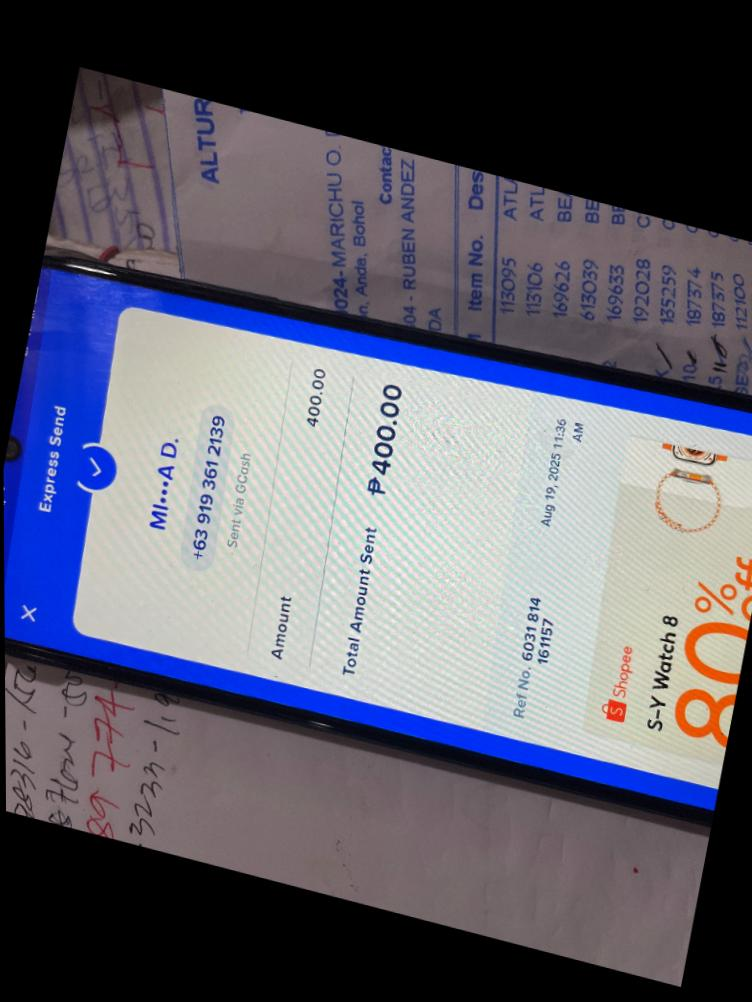Receipt: (4, 268, 752, 812)
